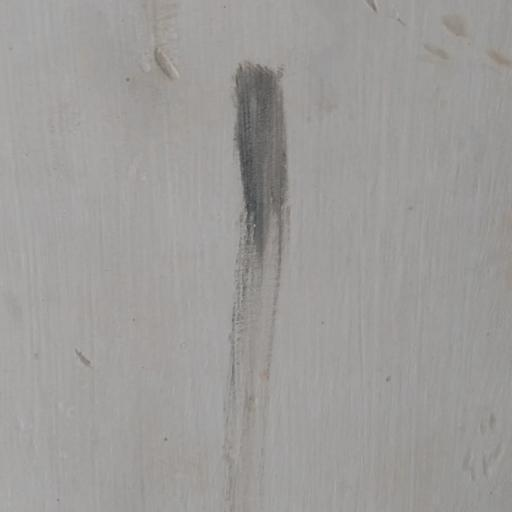stain: (169, 42, 305, 512), (103, 4, 199, 147), (358, 0, 512, 79), (57, 340, 107, 381), (30, 341, 51, 365)
